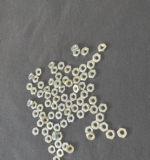nut: (118, 128, 129, 139), (106, 130, 117, 140), (100, 122, 110, 133), (99, 103, 109, 114), (87, 83, 96, 94), (87, 132, 96, 142), (93, 54, 103, 63), (88, 70, 98, 79), (81, 90, 90, 100), (81, 48, 91, 57), (66, 145, 75, 154), (48, 146, 57, 155), (96, 113, 105, 122), (92, 121, 101, 130), (77, 110, 86, 119), (90, 105, 99, 114), (71, 104, 80, 113), (72, 85, 81, 94), (80, 72, 89, 81), (87, 60, 96, 69), (89, 96, 99, 104), (98, 44, 108, 52), (54, 141, 63, 149), (68, 114, 76, 123), (83, 103, 91, 112), (55, 111, 63, 120), (72, 68, 81, 76), (73, 76, 82, 84), (64, 66, 73, 74), (66, 79, 74, 88), (62, 142, 69, 152), (61, 119, 68, 129), (57, 150, 65, 158), (86, 126, 94, 134), (54, 124, 62, 132), (77, 98, 85, 106), (58, 104, 66, 112), (48, 112, 56, 120), (65, 100, 73, 108), (70, 93, 78, 101), (61, 94, 69, 102), (80, 64, 88, 72), (35, 68, 43, 76), (74, 49, 82, 57), (54, 80, 62, 88), (58, 62, 66, 70), (32, 110, 40, 118), (41, 116, 49, 124), (37, 104, 45, 112), (51, 103, 59, 111), (51, 66, 59, 74), (45, 135, 52, 144), (57, 132, 64, 141), (62, 77, 69, 86), (44, 93, 53, 100), (32, 128, 39, 136), (42, 128, 49, 136), (47, 122, 54, 130), (64, 108, 72, 115), (59, 86, 66, 94), (45, 100, 53, 107), (37, 119, 44, 127), (32, 76, 40, 83), (52, 88, 59, 96), (38, 81, 45, 89), (48, 62, 56, 69), (71, 45, 80, 51), (31, 88, 38, 95), (37, 91, 44, 98), (40, 112, 47, 119), (54, 96, 61, 103), (44, 86, 51, 93), (26, 84, 33, 91), (80, 82, 86, 90), (55, 73, 63, 79), (52, 132, 57, 141), (28, 73, 34, 80), (27, 100, 33, 107), (49, 78, 55, 85), (32, 102, 37, 110), (54, 156, 61, 160)
